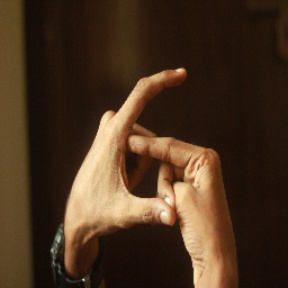E: (104, 62, 208, 225)
